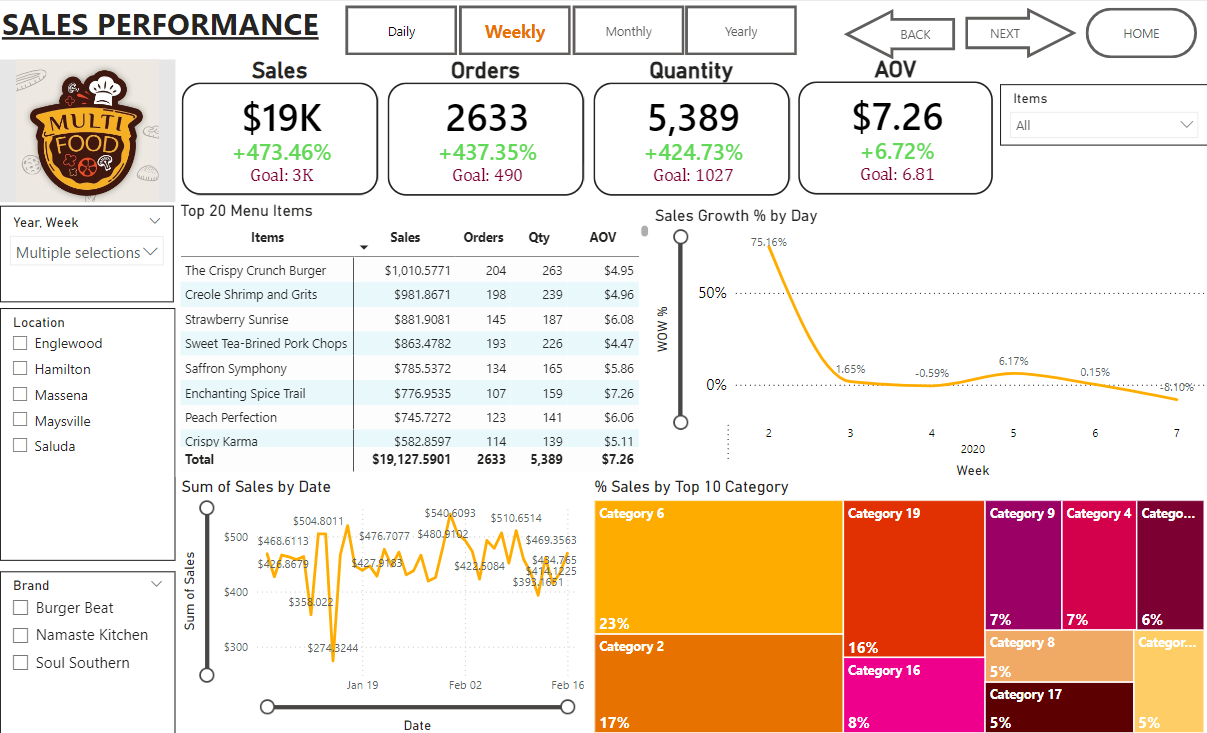

The page's visual inventory and layout, read from the dashboard file:
{"tool":"powerbi","page":{"name":"WEEKLY SALES PERFORMANCE","canvas":[1280,780],"ordinal":1},"visuals":[{"type":"PBI_CV_7B952816_A48F_49B4_9E13_15E3BB2C0337","title":"Sales","fields":{"Values":["Sum(sales_data.Total Price)"],"target":["Live Data.Previous Week Revenue"]},"box":[186.6,59.6,218.2,150.9],"z":0},{"type":"treemap","title":"% Sales by Top 10 Category","fields":{"Values":["Sum(Live Data.Sales)"],"Group":["Live Data.Category"]},"box":[624.3,504.3,655.7,275.7],"z":1000},{"type":"slicer","fields":{"Values":["sales_data.Location"]},"box":[0,325.7,185.7,267.1],"z":2000},{"type":"PBI_CV_7B952816_A48F_49B4_9E13_15E3BB2C0337","title":"Orders","fields":{"Values":["Count(sales_data.Order ID)"],"target":["Live Data.Previous Week Orders"]},"box":[404.8,59.6,218.2,152.3],"z":3000},{"type":"PBI_CV_7B952816_A48F_49B4_9E13_15E3BB2C0337","title":"Quantity","fields":{"Values":["Sum(sales_data.Quantity)"],"target":["Live Data.Previous Week Quantity"]},"box":[623,59,218.2,152.3],"z":4000},{"type":"PBI_CV_7B952816_A48F_49B4_9E13_15E3BB2C0337","title":"AOV","fields":{"Values":["sales_data.AOV"],"target":["Live Data.Previous Week AOV"]},"box":[840.5,58.9,216.8,152.6],"z":5000},{"type":"lineChart","title":"Sales Growth % by Day","fields":{"Y":["Live Data.WOW %"],"Category":["Live Data.Date.Variation.Date Hierarchy.Year","Live Data.Week"]},"box":[692.9,217.1,587.1,287.1],"z":6000},{"type":"actionButton","box":[1149.9,6.9,118,53.5],"z":7000},{"type":"slicer","fields":{"Values":["Live Data.Food Name"]},"box":[1059.1,87.8,220.9,64.5],"z":8000},{"type":"textbox","box":[0,0,365.7,58.6],"z":9000},{"type":"actionButton","box":[1022.3,6.9,118,53.5],"z":10000},{"type":"actionButton","box":[893.3,8.2,118,53.5],"z":11000},{"type":"slicer","title":"Date","fields":{"Values":["Live Data.Date.Variation.Date Hierarchy.Year","Live Data.Week"]},"box":[0,217.2,184.1,102],"z":12000},{"type":"lineChart","fields":{"Category":["Live Data.Date"],"Y":["Sum(Live Data.Sales)"]},"box":[187.1,504.3,437.1,275.7],"z":13000},{"type":"slicer","fields":{"Values":["sales_data.Brand"]},"box":[0,604.3,185.7,175.7],"z":14000},{"type":"actionButton","box":[365.7,4.3,118.6,52.9],"z":15000},{"type":"actionButton","box":[486.3,4.5,118.6,52.9],"z":16000},{"type":"actionButton","box":[606.1,4.2,118.6,52.9],"z":17000},{"type":"actionButton","box":[725.7,4.3,118.6,52.9],"z":18000},{"type":"image","box":[0,61.4,185.7,151.4],"z":19000},{"type":"pivotTable","title":"Top 20 Menu Items","fields":{"Values":["Sum(Live Data.Sales)","Count(Live Data.Order ID)","Sum(Live Data.Quantity)","Live Data.AOV"],"Rows":["Live Data.Food Name"]},"box":[186.2,212.5,506.2,291.2],"z":20000}]}

Visuals, with their boxes in screenshot pixels (x1, y1, x2, y2), scaled from the page's 1280x780 canvas onto the 1207x733 screenshot:
"Sales" PBI_CV_7B952816_A48F_49B4_9E13_15E3BB2C0337: x1=176 y1=56 x2=382 y2=198
"% Sales by Top 10 Category" treemap: x1=589 y1=474 x2=1206 y2=732
slicer - sales_data.Location: x1=0 y1=306 x2=175 y2=557
"Orders" PBI_CV_7B952816_A48F_49B4_9E13_15E3BB2C0337: x1=382 y1=56 x2=587 y2=199
"Quantity" PBI_CV_7B952816_A48F_49B4_9E13_15E3BB2C0337: x1=587 y1=55 x2=793 y2=199
"AOV" PBI_CV_7B952816_A48F_49B4_9E13_15E3BB2C0337: x1=793 y1=55 x2=997 y2=199
"Sales Growth % by Day" lineChart: x1=653 y1=204 x2=1206 y2=474
actionButton: x1=1084 y1=6 x2=1196 y2=57
slicer - Live Data.Food Name: x1=999 y1=83 x2=1206 y2=143
textbox: x1=0 y1=0 x2=345 y2=55
actionButton: x1=964 y1=6 x2=1075 y2=57
actionButton: x1=842 y1=8 x2=954 y2=58
"Date" slicer: x1=0 y1=204 x2=174 y2=300
lineChart - Live Data.Date x Sum(Live Data.Sales): x1=176 y1=474 x2=589 y2=732
slicer - sales_data.Brand: x1=0 y1=568 x2=175 y2=732
actionButton: x1=345 y1=4 x2=457 y2=54
actionButton: x1=459 y1=4 x2=570 y2=54
actionButton: x1=572 y1=4 x2=683 y2=54
actionButton: x1=684 y1=4 x2=796 y2=54
image: x1=0 y1=58 x2=175 y2=200
"Top 20 Menu Items" pivotTable: x1=176 y1=200 x2=653 y2=473
